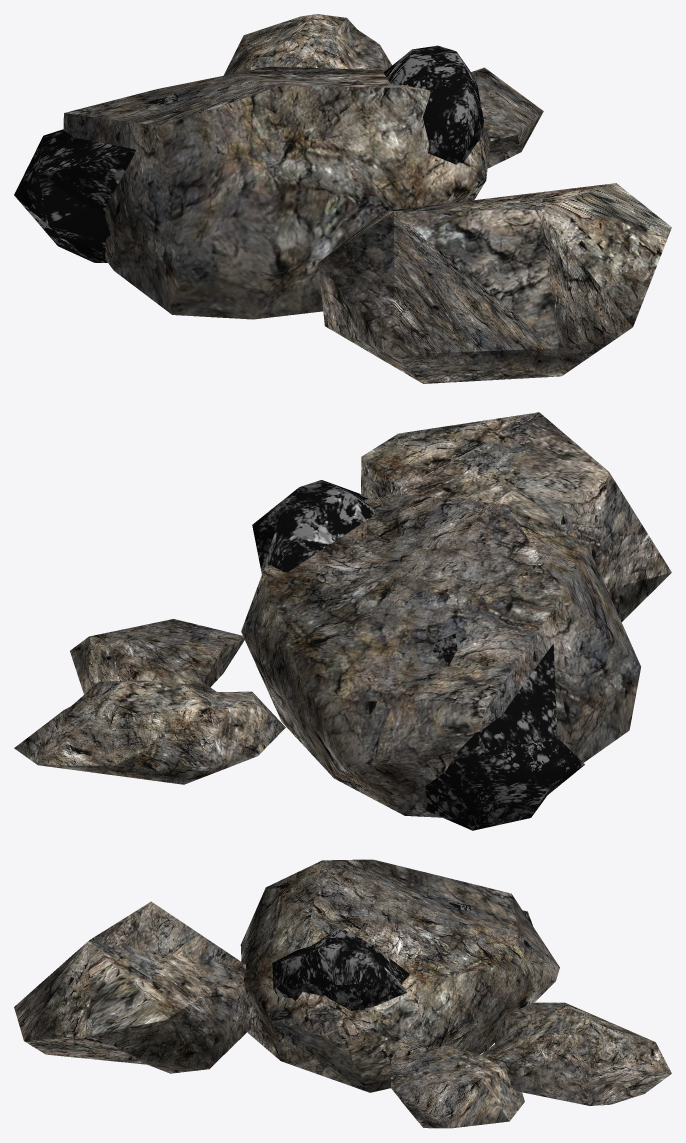
Rendered from pir_m_prp_cav_rockGroupSilver_g.fbx.
The picture shows the model from 3 angles, top to bottom: view 1: azimuth 30°, elevation 25°; view 2: azimuth 150°, elevation 25°; view 3: azimuth 270°, elevation 25°; orthographic projection. The views are drawn at different scales.
Visible parts, largest first — view 1: rock_2, rock_0, rock_10, rock_3, rock_6, rock_1; view 2: rock_2, rock_0, rock_3, rock_10, rock_1, rock_6; view 3: rock_2, rock_0, rock_3, rock_1, rock_6.
Boxes of the visible parts, bbox=[...] form: rock_2: bbox=[63, 66, 490, 319]; rock_0: bbox=[318, 183, 671, 383]; rock_10: bbox=[14, 93, 178, 262]; rock_3: bbox=[223, 14, 392, 75]; rock_6: bbox=[383, 45, 483, 164]; rock_1: bbox=[471, 67, 543, 168]; rock_2: bbox=[241, 494, 640, 817]; rock_0: bbox=[361, 412, 671, 621]; rock_3: bbox=[14, 680, 285, 784]; rock_10: bbox=[425, 633, 584, 830]; rock_1: bbox=[70, 619, 244, 694]; rock_6: bbox=[252, 480, 375, 573]; rock_2: bbox=[240, 859, 559, 1092]; rock_0: bbox=[14, 901, 252, 1073]; rock_3: bbox=[481, 1002, 671, 1105]; rock_1: bbox=[391, 1045, 524, 1128]; rock_6: bbox=[272, 928, 409, 1010].
Size of the model in its own units: 2552 by 1047 by 3645.
Materials: 2 (2 with a texture image).
